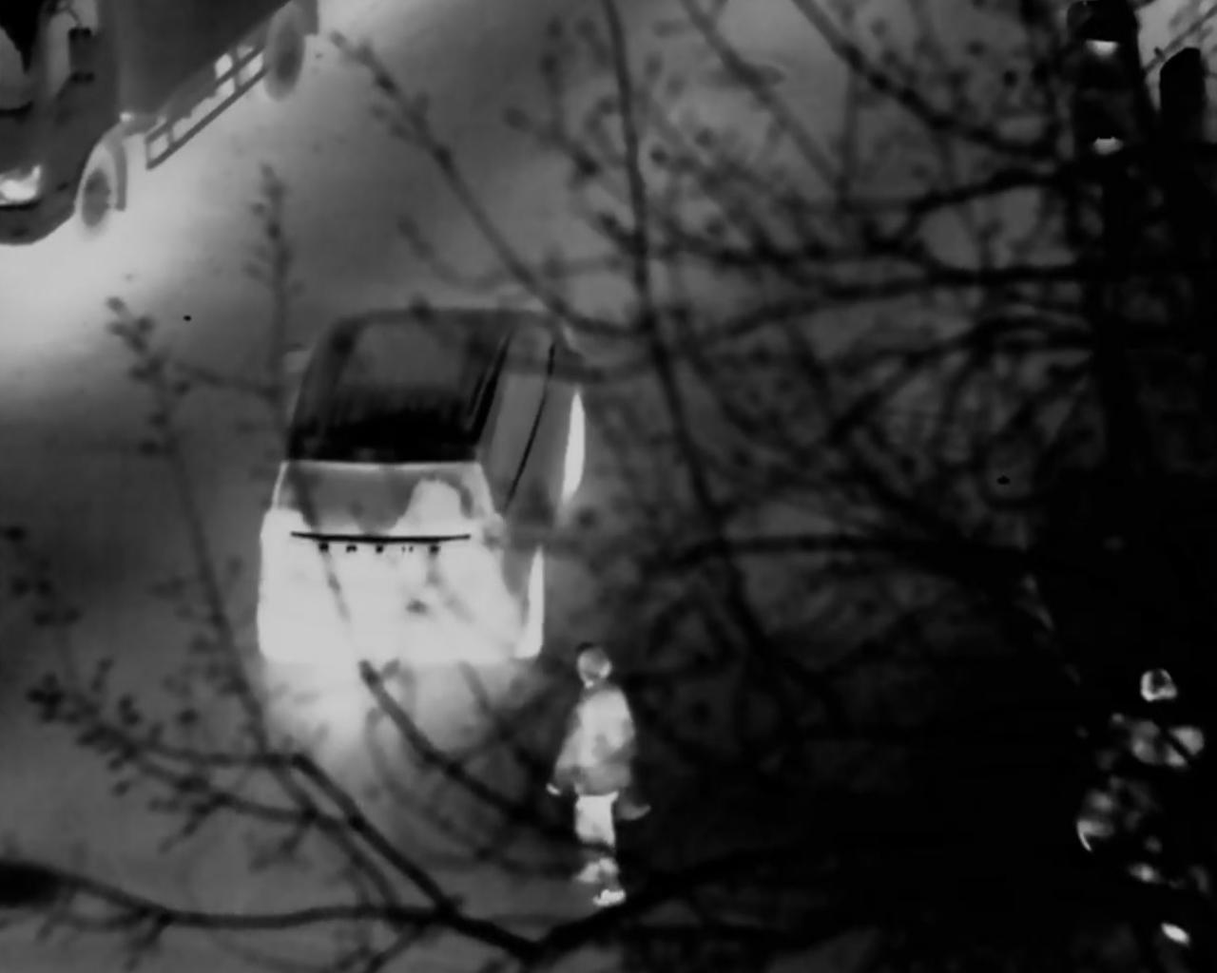person: (1078, 670, 1213, 952), (570, 647, 630, 908)
